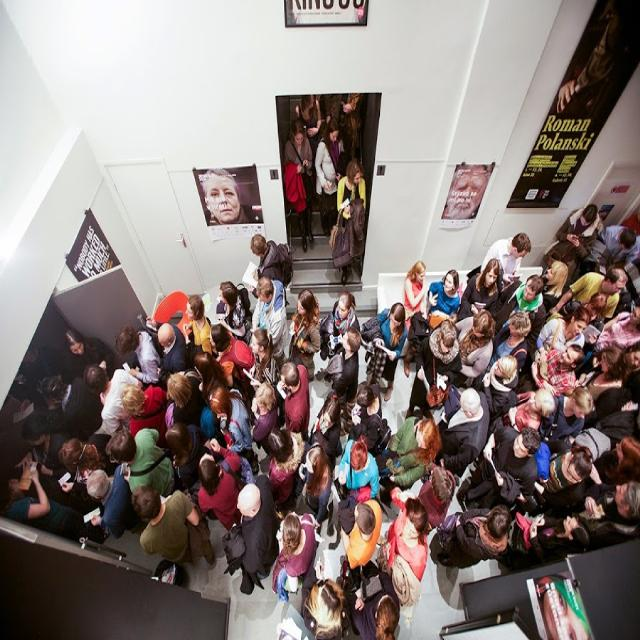body: (271, 354, 640, 640), (11, 324, 87, 503), (542, 224, 640, 355), (550, 7, 632, 144), (0, 466, 107, 545), (130, 483, 218, 572), (425, 301, 544, 355), (231, 474, 283, 586), (542, 202, 603, 296), (104, 427, 182, 498), (190, 156, 262, 226), (197, 438, 249, 534), (280, 116, 316, 254), (492, 273, 548, 355), (40, 371, 103, 443), (82, 364, 144, 435), (335, 156, 368, 288), (85, 463, 140, 541), (216, 277, 260, 368), (314, 113, 346, 238), (242, 327, 284, 422), (250, 273, 291, 368), (437, 158, 496, 223), (245, 232, 294, 310), (316, 93, 366, 168), (209, 384, 255, 465), (399, 258, 428, 379), (120, 381, 170, 450), (164, 421, 212, 492), (208, 322, 257, 391), (375, 301, 408, 403), (62, 328, 116, 390), (288, 286, 322, 384), (317, 289, 362, 363), (275, 360, 312, 449), (454, 255, 500, 321), (114, 324, 162, 387), (144, 314, 188, 381), (478, 230, 532, 283), (329, 326, 362, 406), (426, 268, 462, 334), (192, 350, 230, 411), (172, 366, 208, 428), (250, 380, 280, 450), (182, 296, 214, 358), (295, 93, 322, 146)
